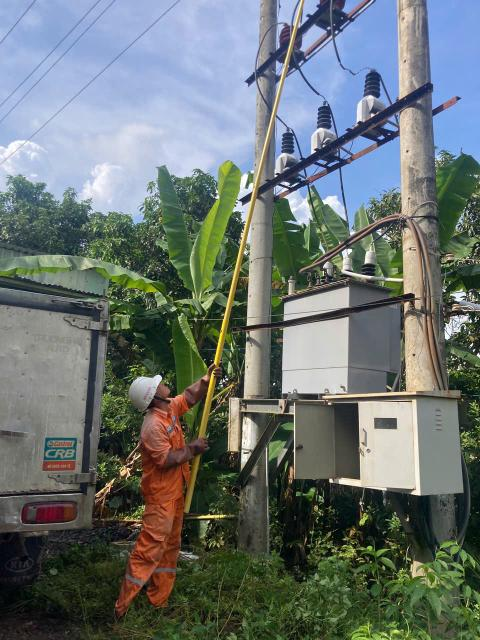gloves: (178, 363, 229, 407), (156, 438, 223, 470)
helmet: (109, 361, 168, 414)
